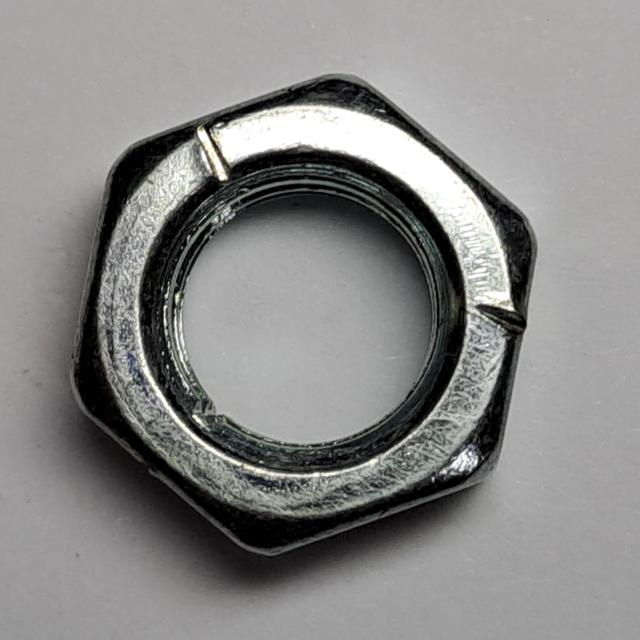Scratches: (57, 60, 544, 572)
